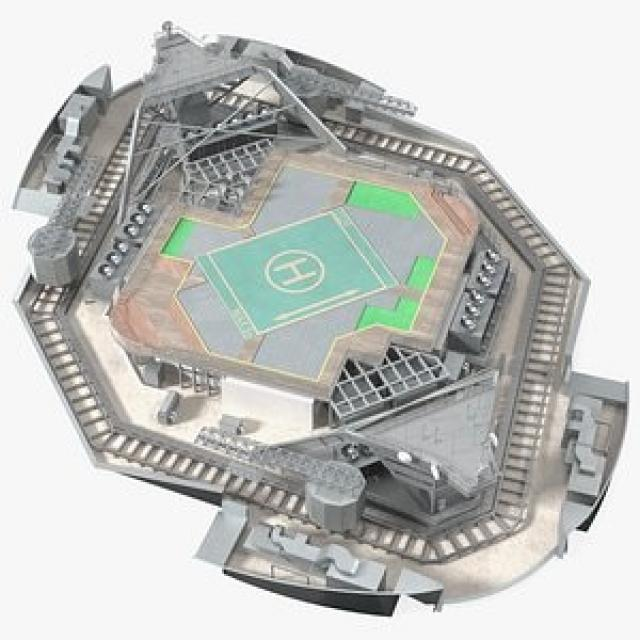helipad: (258, 246, 324, 294)
